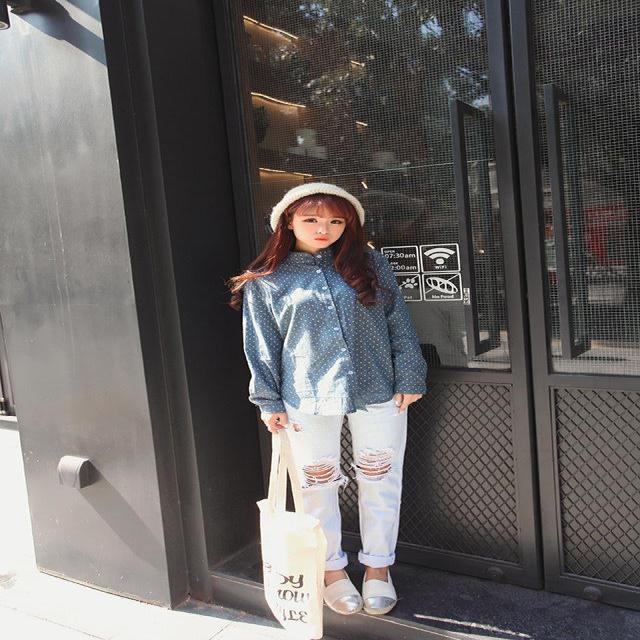long sleeve top: (246, 243, 427, 414)
trousers: (284, 364, 406, 569)
